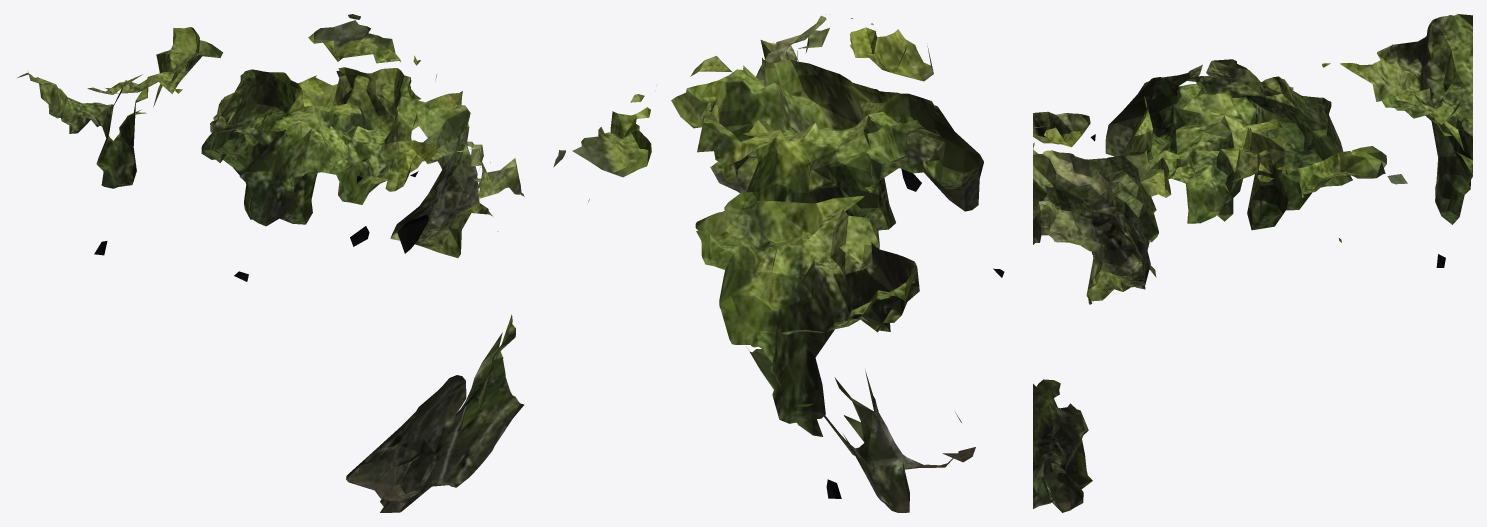
3 renders of one model, left to right at view 1: azimuth 30°, elevation 25°; view 2: azimuth 150°, elevation 25°; view 3: azimuth 270°, elevation 25°, orthographic. The views are drawn at different scales.
Size of the model in its own units: 10.49 by 11.69 by 11.8.
3 materials, 3 textured.
